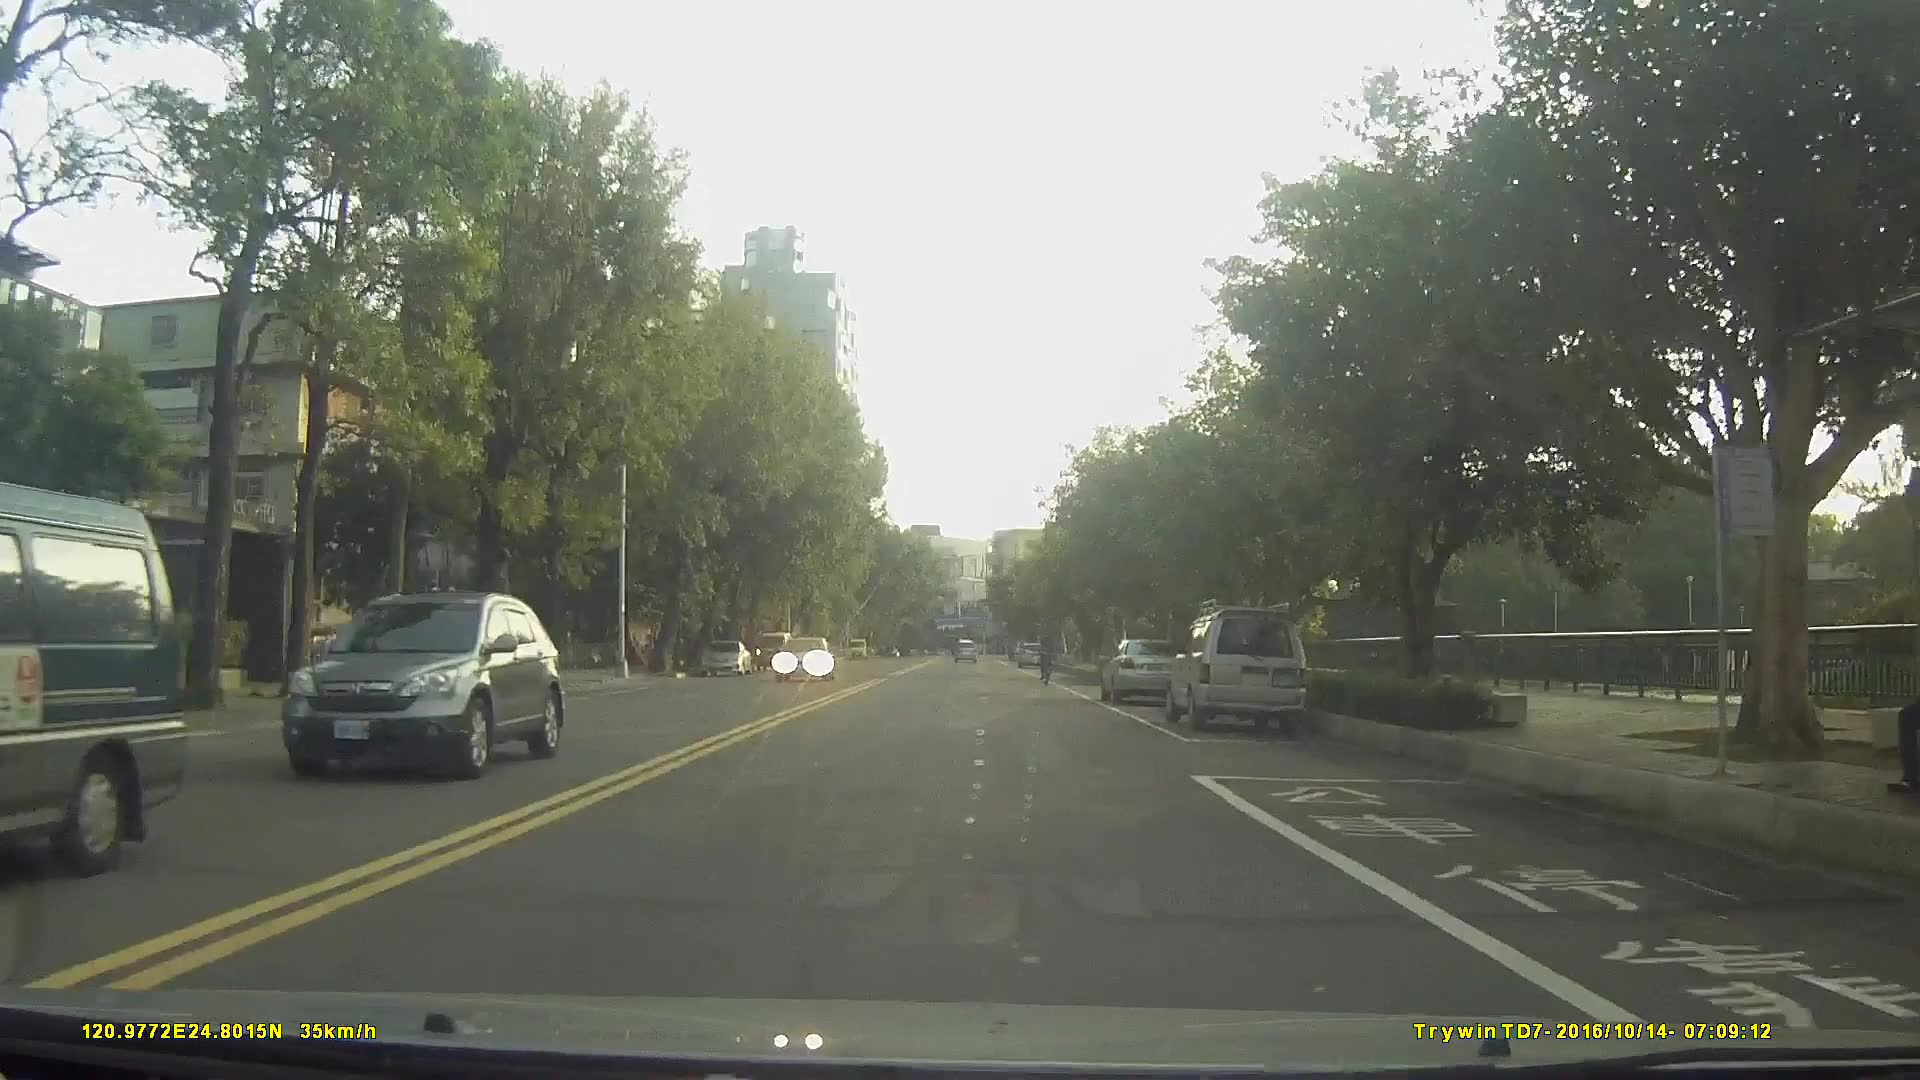pedestrian: (1892, 577, 1920, 800)
rider: (1036, 629, 1056, 688)
vehicle: (0, 481, 184, 885), (279, 590, 562, 781), (1165, 606, 1310, 733), (1100, 633, 1185, 703), (771, 633, 834, 683), (698, 635, 752, 675), (753, 630, 794, 671), (1017, 639, 1046, 668), (950, 634, 978, 660)
